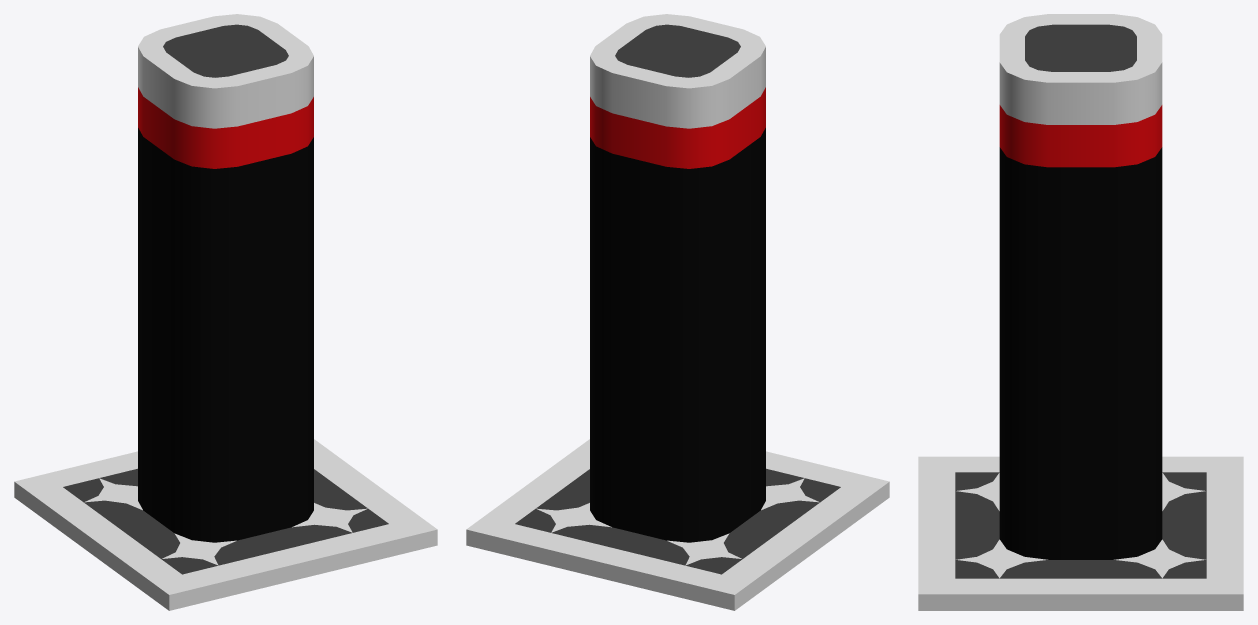
Rendered from bollard.fbx.
3 renders of one model, left to right at view 1: azimuth 30°, elevation 25°; view 2: azimuth 150°, elevation 25°; view 3: azimuth 270°, elevation 25°, orthographic. The views are drawn at different scales.
Visible parts, largest first — view 1: Plane; view 2: Plane; view 3: Plane.
Boxes of the visible parts, bbox=[...] form: Plane: bbox=[14, 14, 437, 610]; Plane: bbox=[466, 14, 889, 610]; Plane: bbox=[918, 14, 1243, 610].
Bounding box in the file's own units: 200 × 335 × 200.
